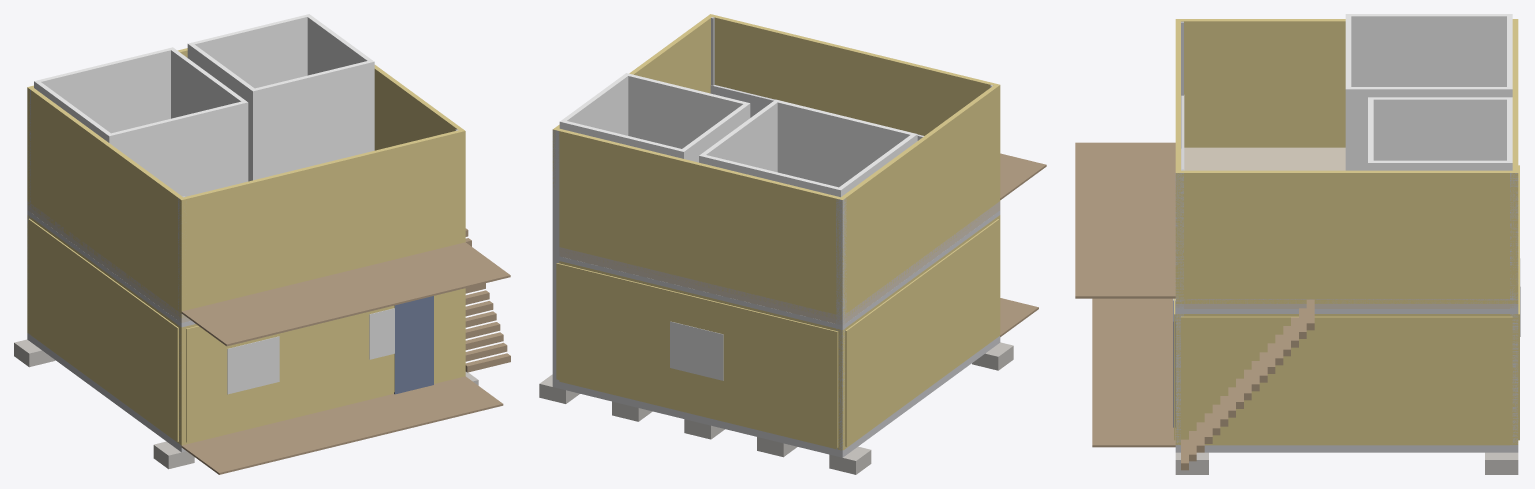
The model's file is Duplex-20-Base-DesertYellow-LOD2.glb.
3 views of the same model, side by side, from view 1: azimuth 30°, elevation 25°; view 2: azimuth 150°, elevation 25°; view 3: azimuth 270°, elevation 25° (orthographic). The views are drawn at different scales.
Visible parts, largest first — view 1: ExteriorShellUpper, ExteriorPanelsStandard, StudyUpper, BedroomUpper, BalconyUpper, BalconyGround, WindowsStandard, EntryDoor, StaircaseExternal, ExteriorShell, FoundationBlocks, FloorUpper (+2 smaller); view 2: ExteriorShellUpper, ExteriorPanelsStandard, BedroomUpper, StudyUpper, FloorUpper, VerticalStructure, FoundationBlocks, BaseFrame, ExteriorShell, WindowsStandard, TopFrame, BalconyUpper (+2 smaller); view 3: ExteriorShellUpper, ExteriorPanelsStandard, BalconyUpper, BedroomUpper, BalconyGround, StudyUpper, FloorUpper, StaircaseExternal, ExteriorShell, VerticalStructure, BaseFrame, TopFrame (+1 smaller).
Part boxes in pixels (x1,y1,x2,y2): ExteriorShellUpper: [27, 48, 465, 317]; ExteriorPanelsStandard: [28, 218, 461, 442]; StudyUpper: [187, 14, 374, 181]; BedroomUpper: [34, 47, 248, 196]; BalconyUpper: [181, 242, 510, 346]; BalconyGround: [181, 376, 503, 474]; WindowsStandard: [227, 308, 394, 394]; EntryDoor: [394, 296, 433, 394]; StaircaseExternal: [465, 228, 510, 372]; ExteriorShell: [27, 215, 465, 445]; FoundationBlocks: [14, 339, 478, 469]; FloorUpper: [27, 201, 190, 322]; ExteriorShellUpper: [552, 14, 1000, 319]; ExteriorPanelsStandard: [556, 219, 999, 447]; BedroomUpper: [699, 99, 917, 197]; StudyUpper: [559, 73, 750, 162]; FloorUpper: [559, 201, 1000, 325]; VerticalStructure: [552, 17, 998, 450]; FoundationBlocks: [539, 342, 1013, 474]; BaseFrame: [552, 336, 1000, 457]; ExteriorShell: [559, 215, 1000, 450]; WindowsStandard: [670, 321, 723, 380]; TopFrame: [559, 210, 1000, 329]; BalconyUpper: [1000, 153, 1046, 199]; ExteriorShellUpper: [1175, 19, 1518, 303]; ExteriorPanelsStandard: [1174, 165, 1519, 443]; BalconyUpper: [1075, 142, 1175, 298]; BedroomUpper: [1345, 14, 1512, 170]; BalconyGround: [1092, 298, 1175, 447]; StudyUpper: [1368, 97, 1512, 170]; FloorUpper: [1175, 147, 1518, 308]; StaircaseExternal: [1181, 299, 1314, 470]; ExteriorShell: [1175, 314, 1518, 445]; VerticalStructure: [1175, 21, 1518, 445]; BaseFrame: [1175, 445, 1518, 452]; TopFrame: [1175, 309, 1518, 313].
Bounding box in the file's own units: 7.94 × 6 × 8.
